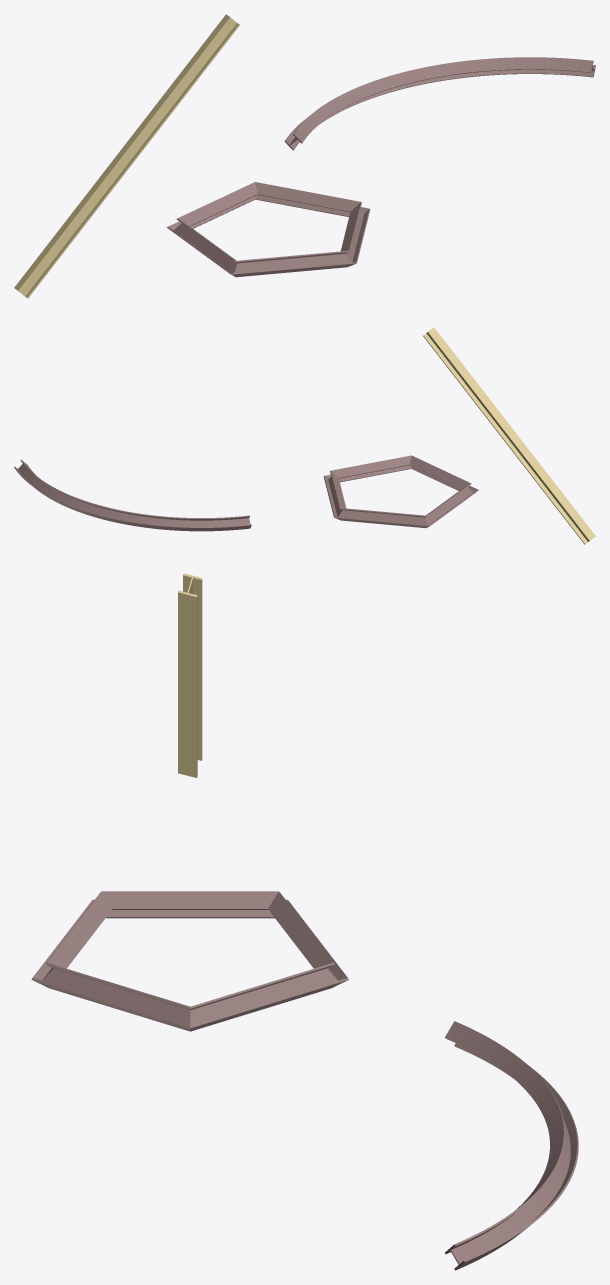
The model's file is Elements_Beam.glb.
3 renders of one model, top to bottom at view 1: azimuth 30°, elevation 25°; view 2: azimuth 150°, elevation 25°; view 3: azimuth 270°, elevation 25°, orthographic. The views are drawn at different scales.
Parts seen in each view (by area): view 1: 3d1ec9ff-023e-41c8-b069-42d3971f5bc5_mesh, 2064065b-98fb-467f-9f47-e40eb5e33558_mesh, b5e8e76e-b10c-4184-a04b-53696dea6bbe_mesh; view 2: 3d1ec9ff-023e-41c8-b069-42d3971f5bc5_mesh, 2064065b-98fb-467f-9f47-e40eb5e33558_mesh, b5e8e76e-b10c-4184-a04b-53696dea6bbe_mesh; view 3: 3d1ec9ff-023e-41c8-b069-42d3971f5bc5_mesh, b5e8e76e-b10c-4184-a04b-53696dea6bbe_mesh, 2064065b-98fb-467f-9f47-e40eb5e33558_mesh.
Part boxes in pixels (box(x1,y1,x2,y2)): 3d1ec9ff-023e-41c8-b069-42d3971f5bc5_mesh: box(167, 182, 370, 277); 2064065b-98fb-467f-9f47-e40eb5e33558_mesh: box(14, 14, 239, 298); b5e8e76e-b10c-4184-a04b-53696dea6bbe_mesh: box(284, 57, 595, 150); 3d1ec9ff-023e-41c8-b069-42d3971f5bc5_mesh: box(323, 455, 478, 528); 2064065b-98fb-467f-9f47-e40eb5e33558_mesh: box(423, 327, 595, 544); b5e8e76e-b10c-4184-a04b-53696dea6bbe_mesh: box(14, 459, 251, 531); 3d1ec9ff-023e-41c8-b069-42d3971f5bc5_mesh: box(31, 891, 348, 1031); b5e8e76e-b10c-4184-a04b-53696dea6bbe_mesh: box(444, 1021, 578, 1270); 2064065b-98fb-467f-9f47-e40eb5e33558_mesh: box(178, 573, 202, 777).
Size of the model in its own units: 15.79 by 5.31 by 7.32.
